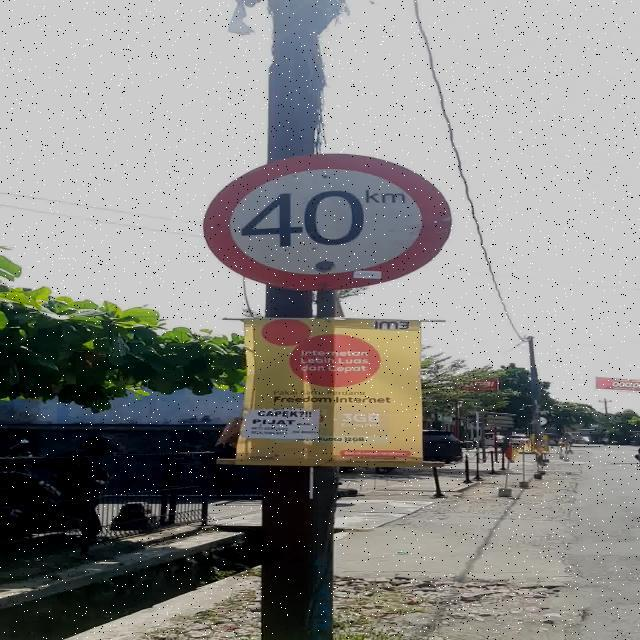Kecepatan Maks. 40 km: (202, 154, 452, 290)
